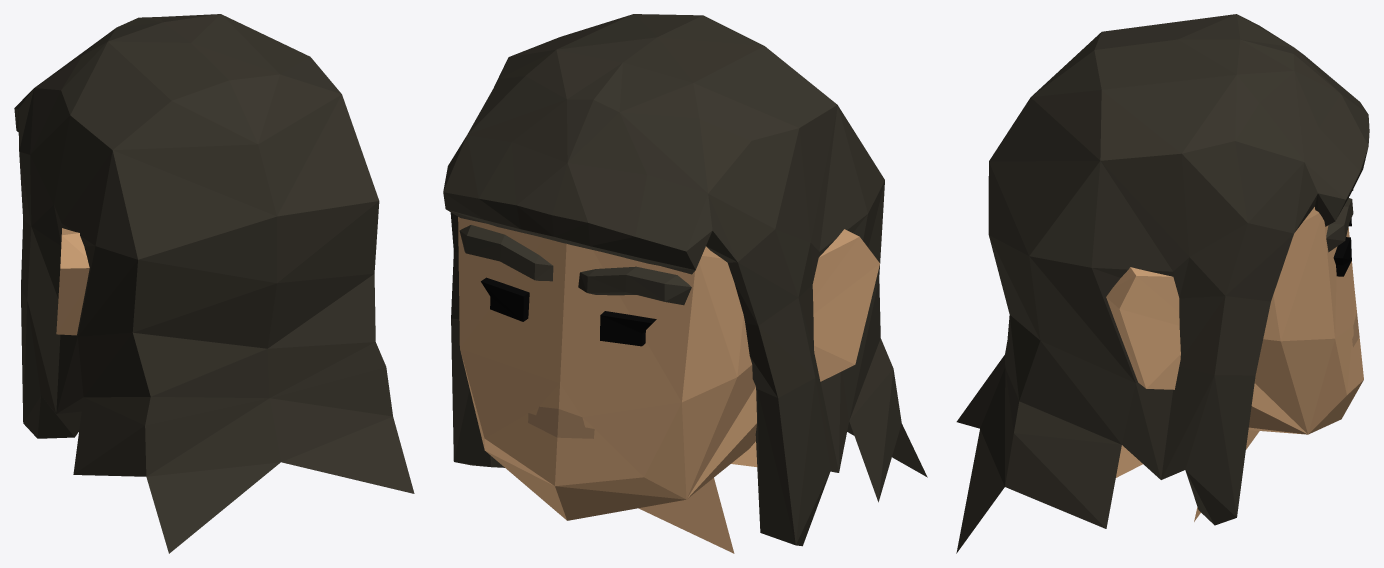
File: Mother_02_Head_0_04_B.obj
The picture shows the model from 3 angles, left to right: view 1: azimuth 30°, elevation 25°; view 2: azimuth 150°, elevation 25°; view 3: azimuth 270°, elevation 25°; orthographic projection. The views are drawn at different scales.
Visible parts, largest first — view 1: Mother_02_Head_0_04_B; view 2: Mother_02_Head_0_04_B; view 3: Mother_02_Head_0_04_B.
Part boxes in pixels (<box>): Mother_02_Head_0_04_B: <box>14,14,414,553</box>; Mother_02_Head_0_04_B: <box>443,14,927,553</box>; Mother_02_Head_0_04_B: <box>956,14,1369,553</box>.
Bounding box in the file's own units: 0.2831 × 0.3499 × 0.2922.
1 material, 1 textured.
